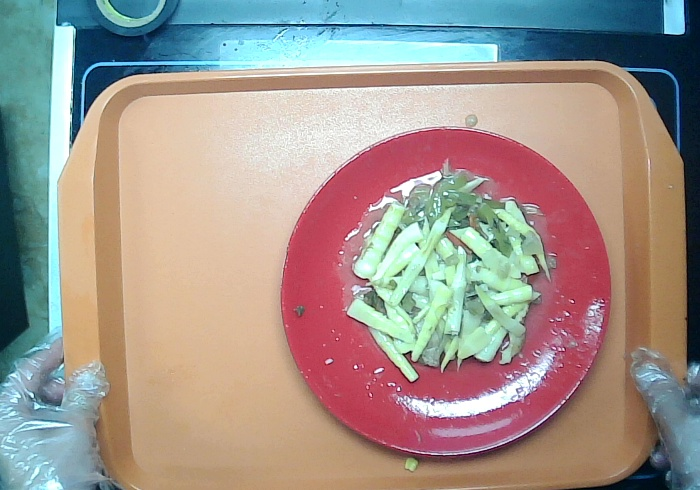HZYJPL-Hong_Se_Yuan_Pan: (276, 126, 614, 460)
